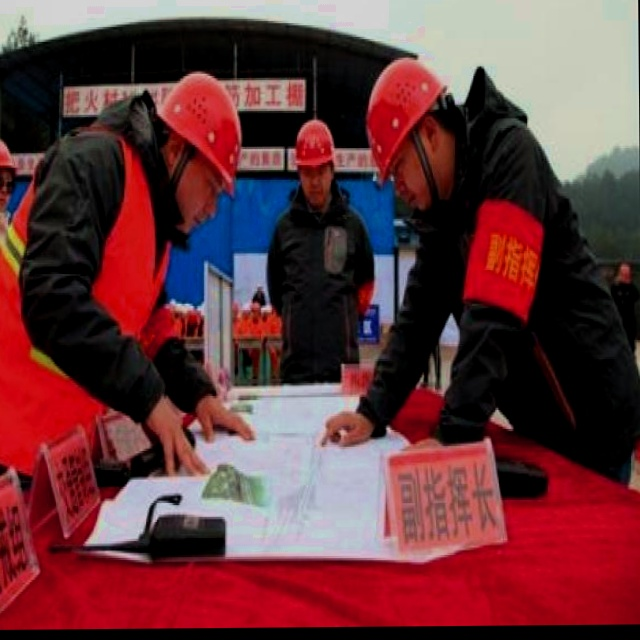Con_Casco: (368, 56, 450, 219), (160, 73, 244, 230), (291, 121, 336, 206)
